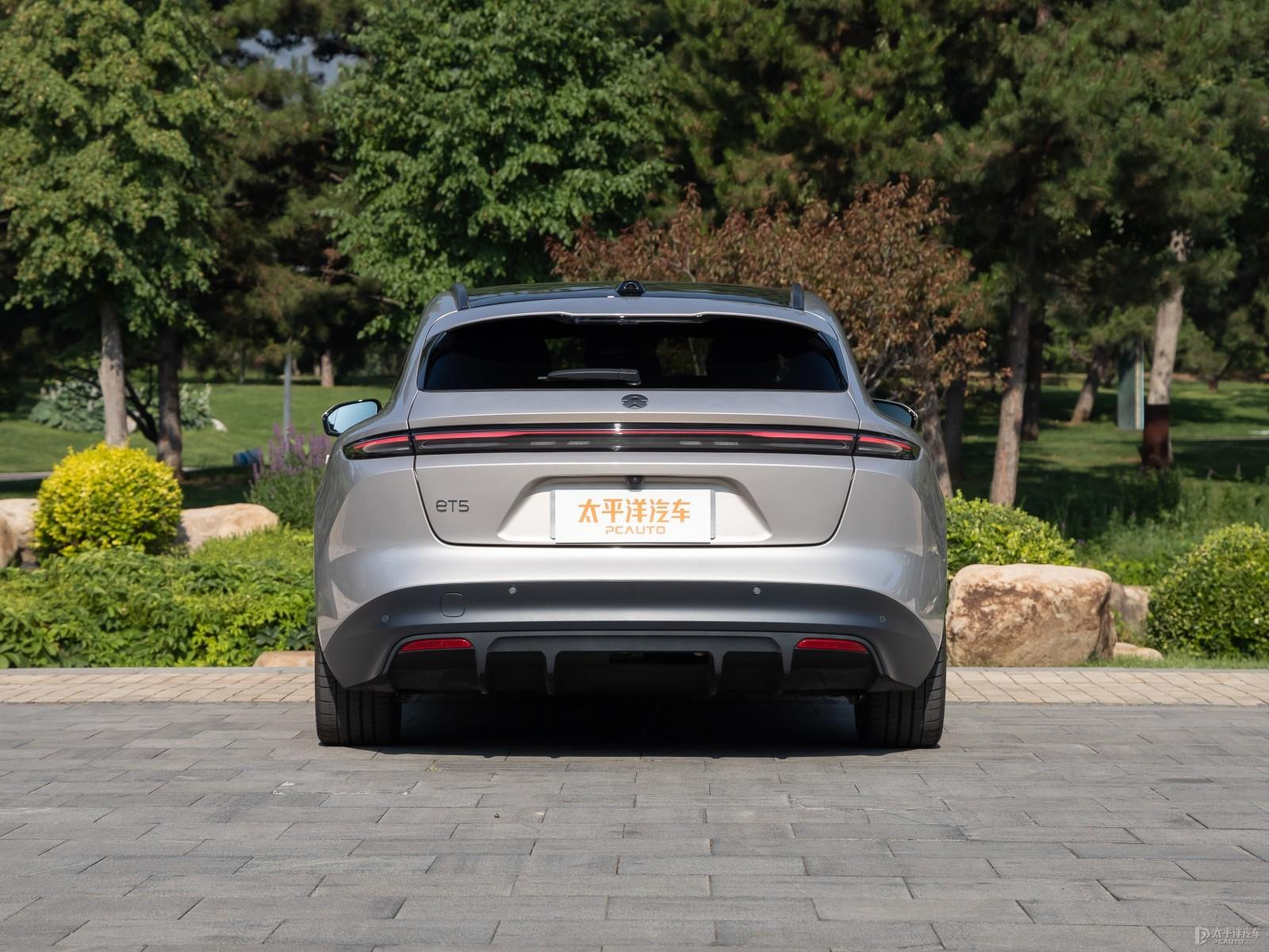NIO: (621, 393, 649, 408)
